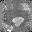people: (12, 16, 24, 27)
